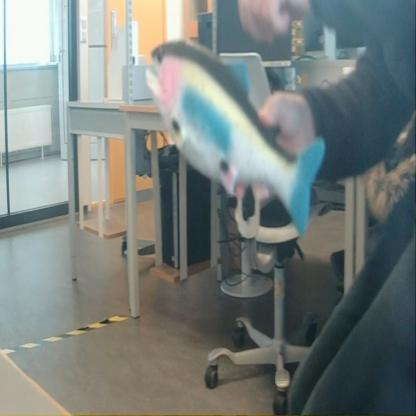rubberfish: (143, 32, 327, 240)
